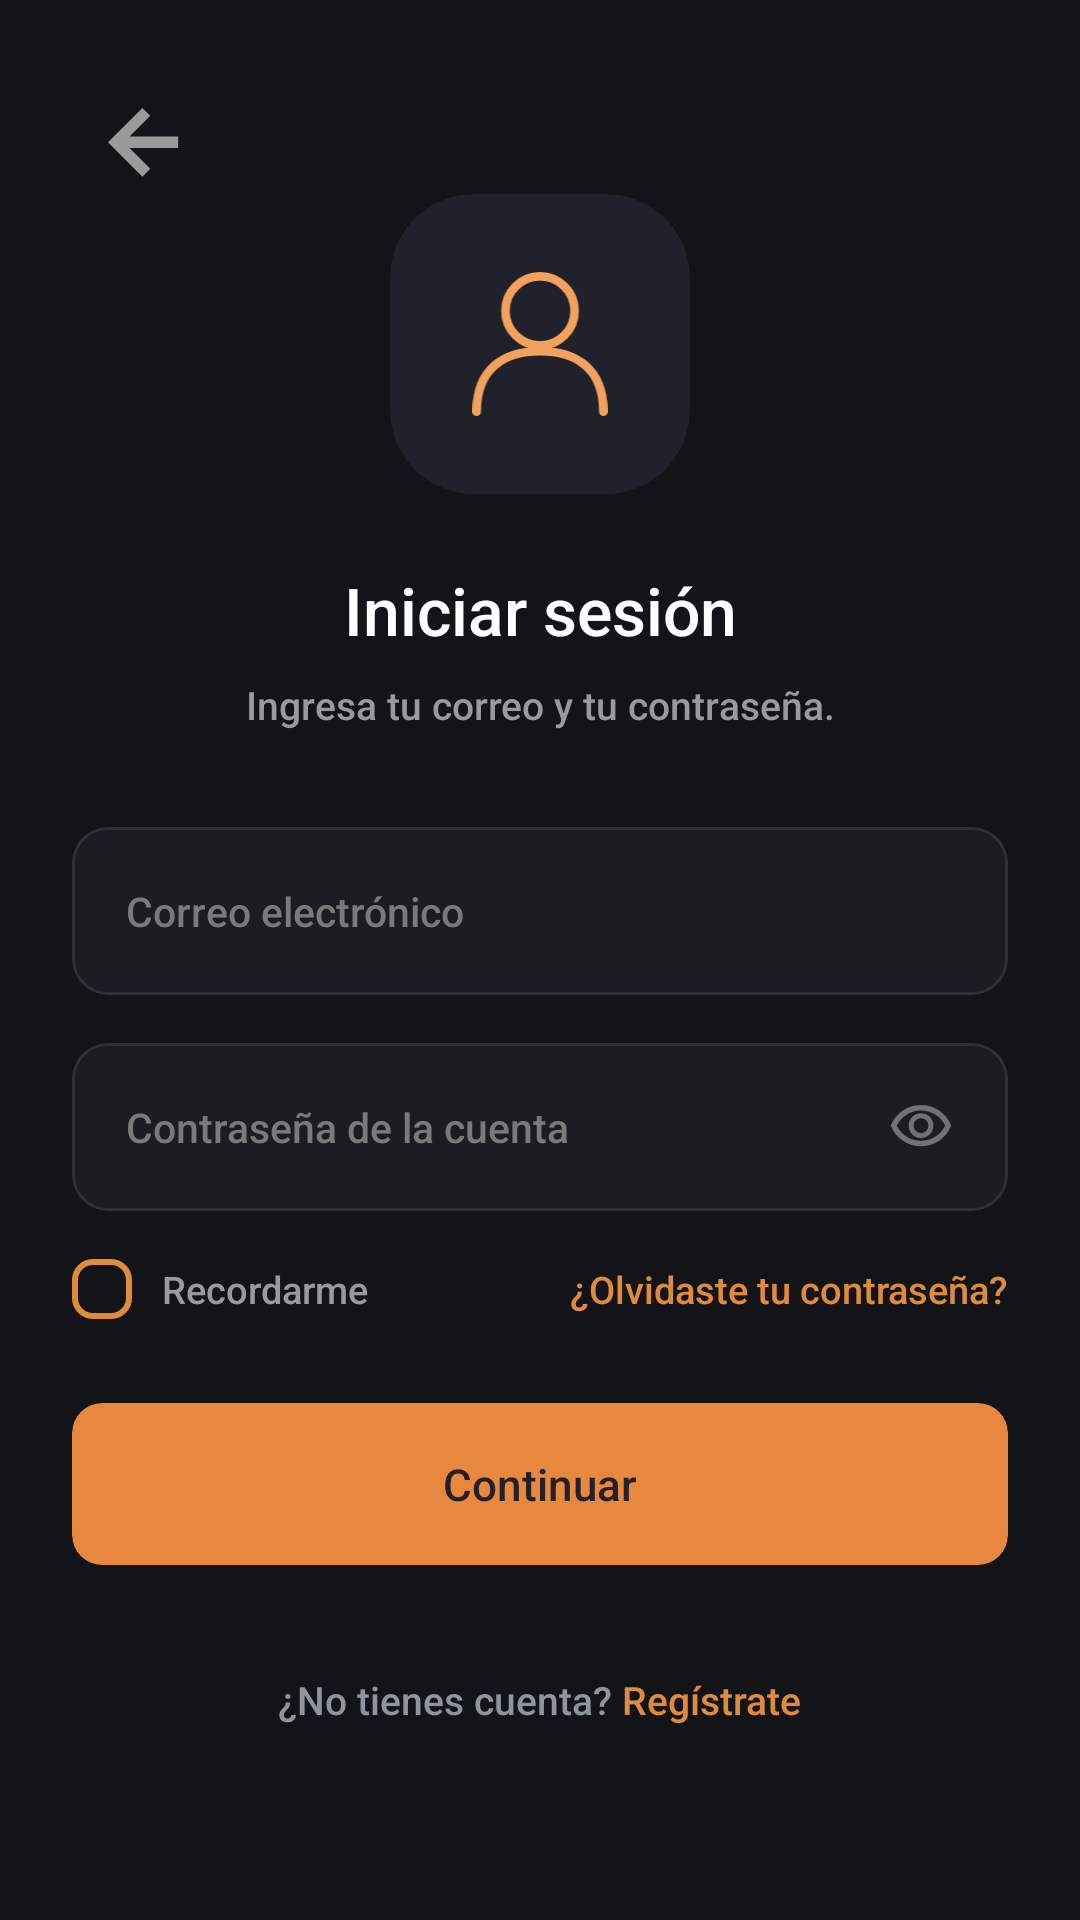

Named icons in this screenshot (1080w x 1920h) and their bounding boxes, rect(x1, y1, x2, y2):
Mostrar contraseña: rect(891, 1105, 951, 1146)
Usuario: rect(472, 272, 608, 416)
Volver: rect(108, 108, 178, 177)
